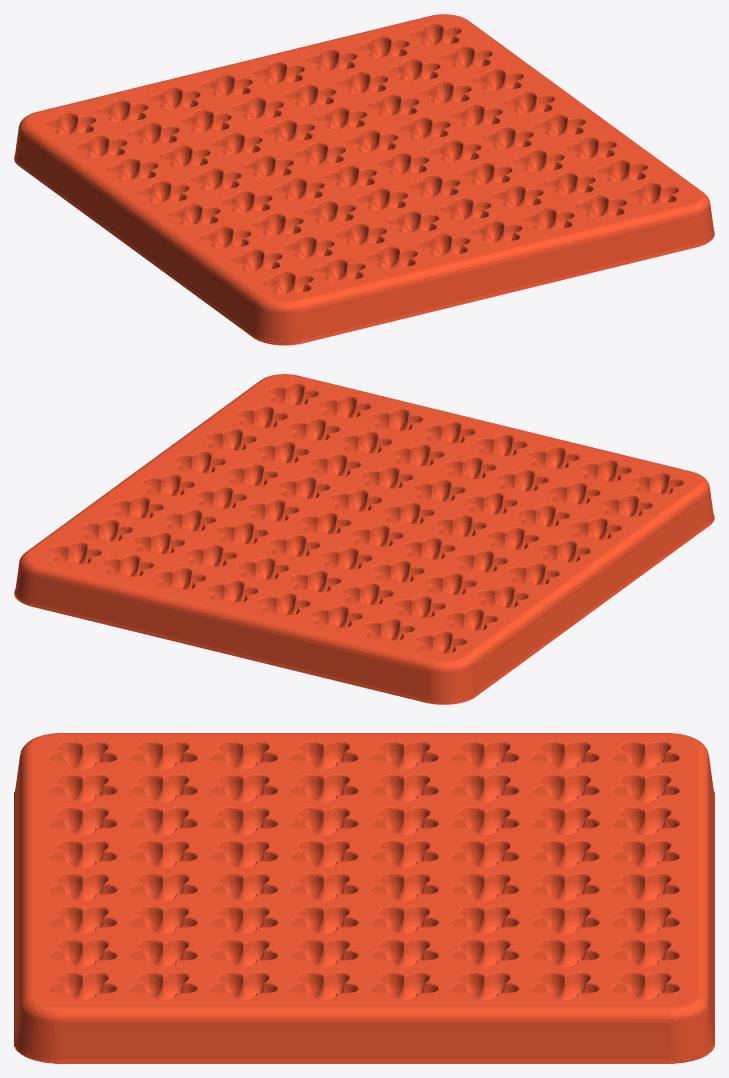
File: mold.glb
The picture shows the model from 3 angles, top to bottom: view 1: azimuth 30°, elevation 25°; view 2: azimuth 150°, elevation 25°; view 3: azimuth 270°, elevation 25°; orthographic projection. The views are drawn at different scales.
Parts seen in each view (by area): view 1: geometry_0; view 2: geometry_0; view 3: geometry_0.
Part boxes in pixels (bbox=[...]): geometry_0: bbox=[14, 14, 714, 345]; geometry_0: bbox=[14, 374, 714, 704]; geometry_0: bbox=[14, 733, 714, 1063].
Bounding box in the file's own units: 0.1319 × 0.0105 × 0.1355.
